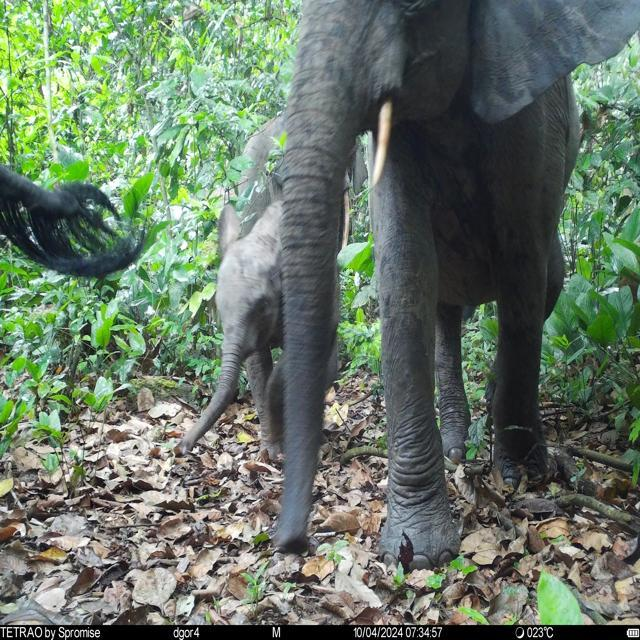calf: (178, 203, 283, 462)
ear: (470, 0, 640, 124)
elephant: (275, 0, 640, 570), (0, 162, 144, 278), (240, 111, 369, 209)
tusk: (368, 100, 391, 186)
